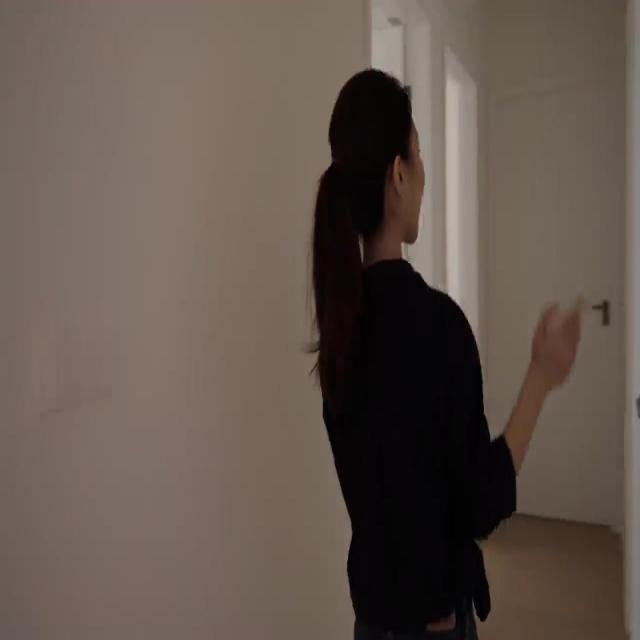door: (490, 92, 616, 528)
person: (306, 66, 583, 640)
